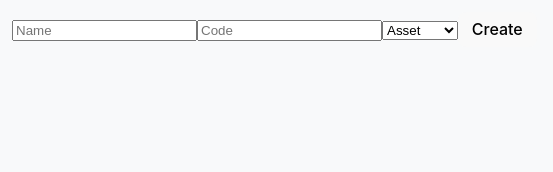
Test: LedgerAccountForm Component - REQ-201.2 › API Integration › handles API errors gracefully
The width and height of the screenshot is (553, 172).
Type "Test Account" into the field named "account name" at (104, 31), box [12,20,197,41]
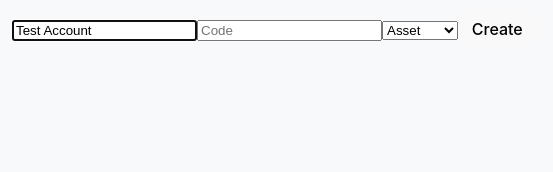
Type "TEST" into the field named "account code" at (290, 31), box [197,20,382,41]
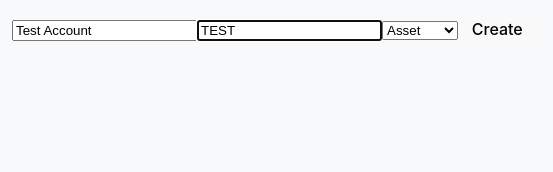
Click the button "Create" at (497, 29), box [458,12,536,47]
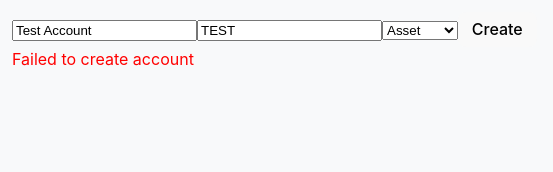
Check: the text "Failed to create account" is shown, box [12,49,194,69]
